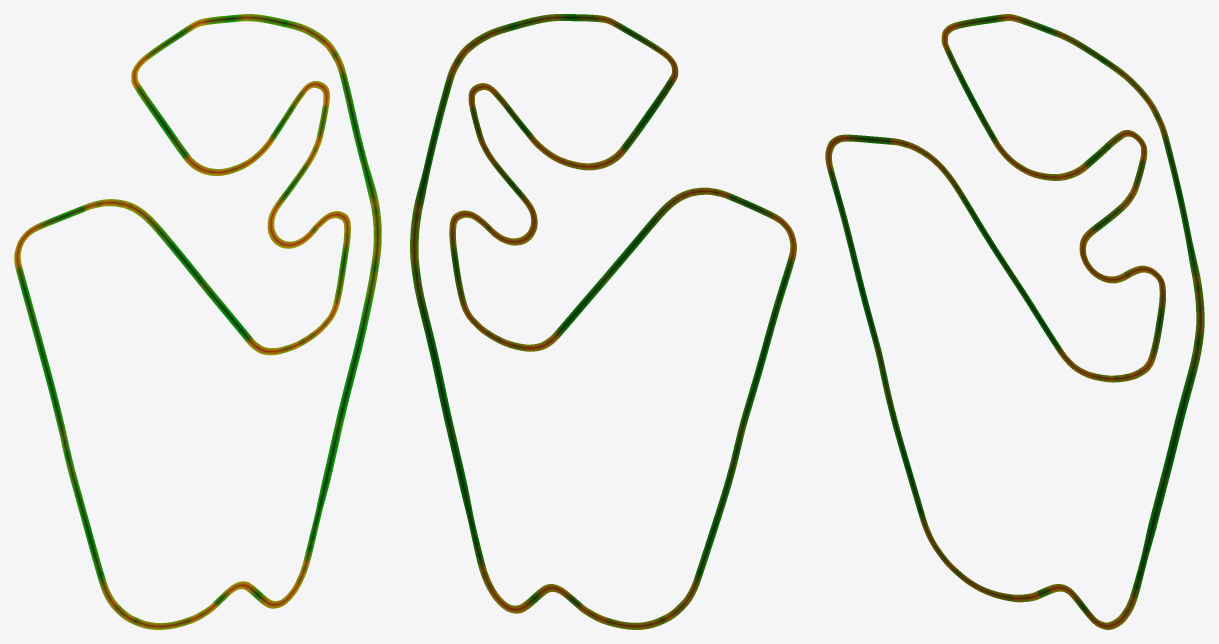
Rendered from Trk_Surface.fbx.
3 views of the same model, side by side, from view 1: azimuth 30°, elevation 25°; view 2: azimuth 150°, elevation 25°; view 3: azimuth 330°, elevation 25° (orthographic). The views are drawn at different scales.
Visible parts, largest first — view 1: Trk_Surface; view 2: Trk_Surface; view 3: Trk_Surface.
Part boxes in pixels (x1,y1,x2,y2): Trk_Surface: (14,14,381,629); Trk_Surface: (410,14,796,629); Trk_Surface: (825,14,1204,629).
Size of the model in its own units: 68137 by 4285 by 105893.
